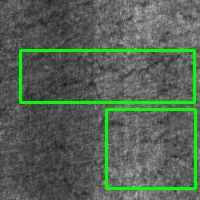crazing: (20, 50, 194, 102), (106, 109, 195, 188)
